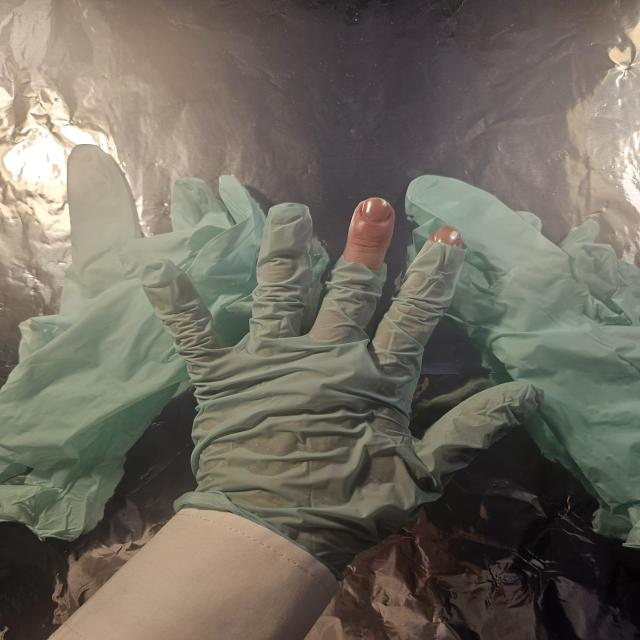gloves_damaged: (138, 192, 545, 583)
